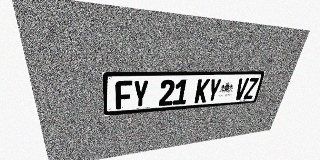1: (173, 79, 189, 105)
2: (159, 79, 175, 106)
F: (115, 80, 132, 109)
K: (194, 79, 210, 103)
V: (233, 78, 249, 100)
Y: (132, 80, 149, 108), (206, 78, 222, 102)
Z: (243, 78, 259, 99)
